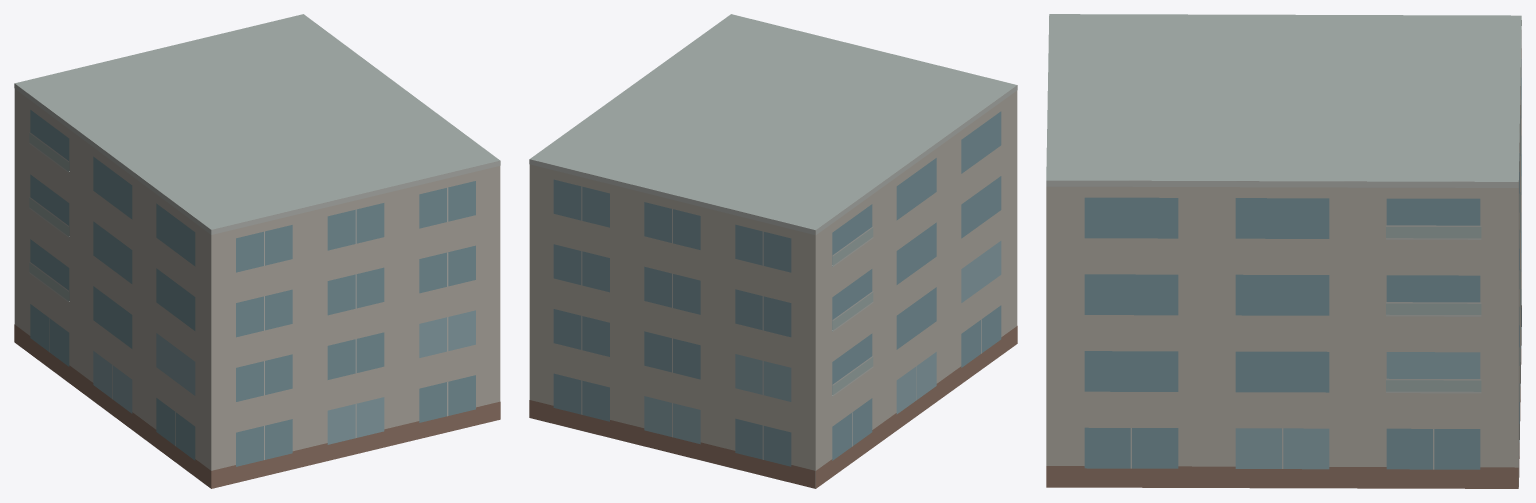
The model's file is survey-upis-32822746.glb.
3 views of the same model, side by side, from view 1: azimuth 30°, elevation 25°; view 2: azimuth 150°, elevation 25°; view 3: azimuth 270°, elevation 25° (orthographic). The views are drawn at different scales.
Parts seen in each view (by area): view 1: survey-upis-32822746.tmp; view 2: survey-upis-32822746.tmp; view 3: survey-upis-32822746.tmp.
Boxes of the visible parts, bbox=[...] form: survey-upis-32822746.tmp: bbox=[14, 14, 500, 488]; survey-upis-32822746.tmp: bbox=[529, 14, 1017, 488]; survey-upis-32822746.tmp: bbox=[1046, 14, 1521, 488].
Size of the model in its own units: 14.46 by 12.3 by 17.28.
